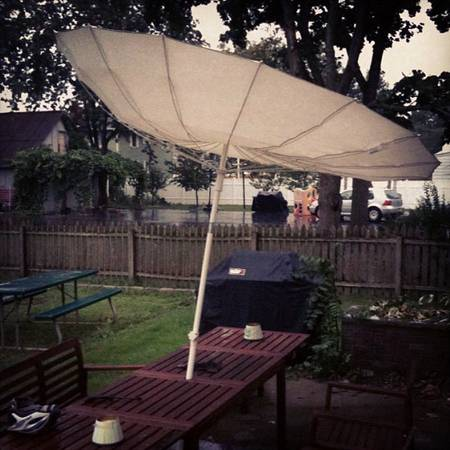truck: (339, 180, 403, 224)
